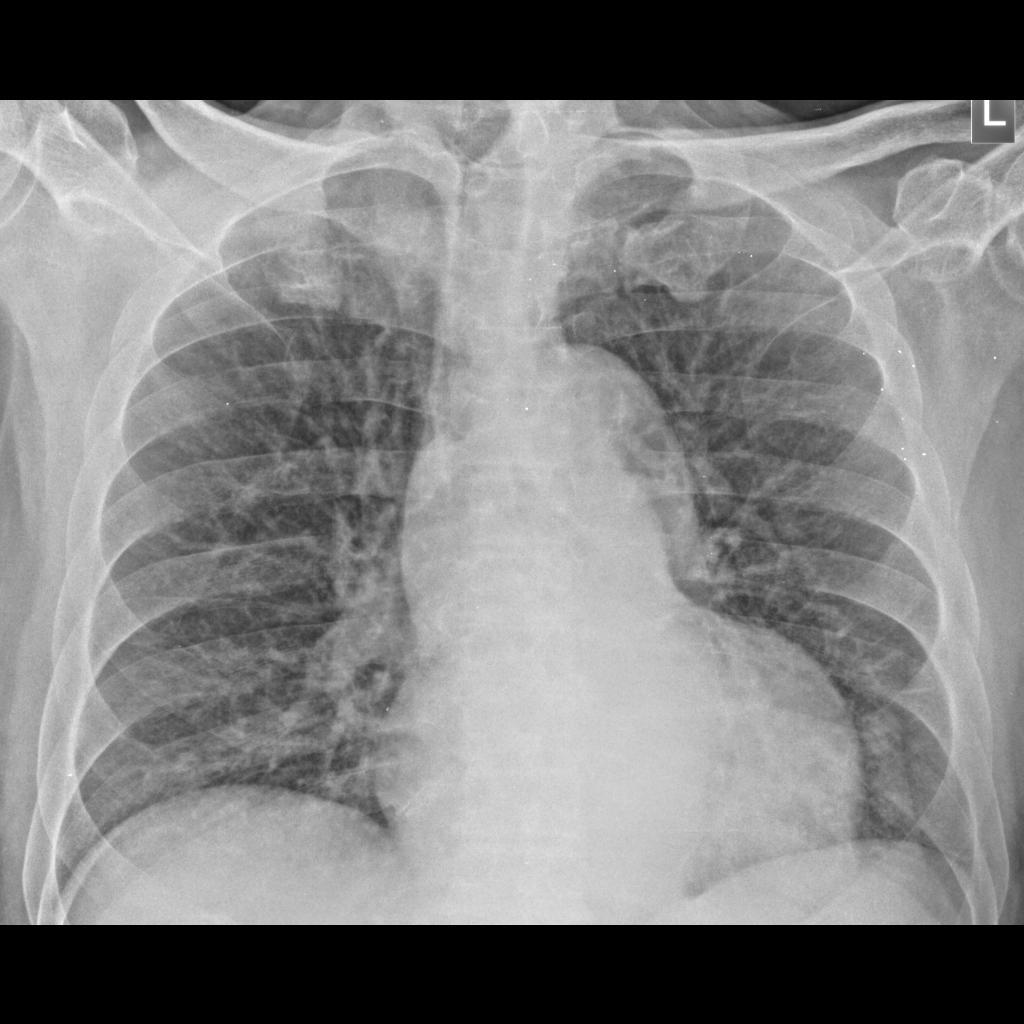Nodule: (166, 741, 200, 780)
